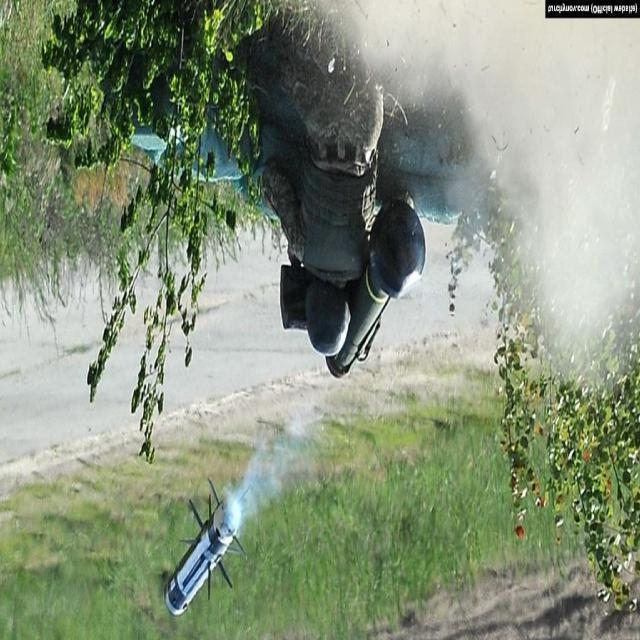missile: (160, 478, 248, 616)
